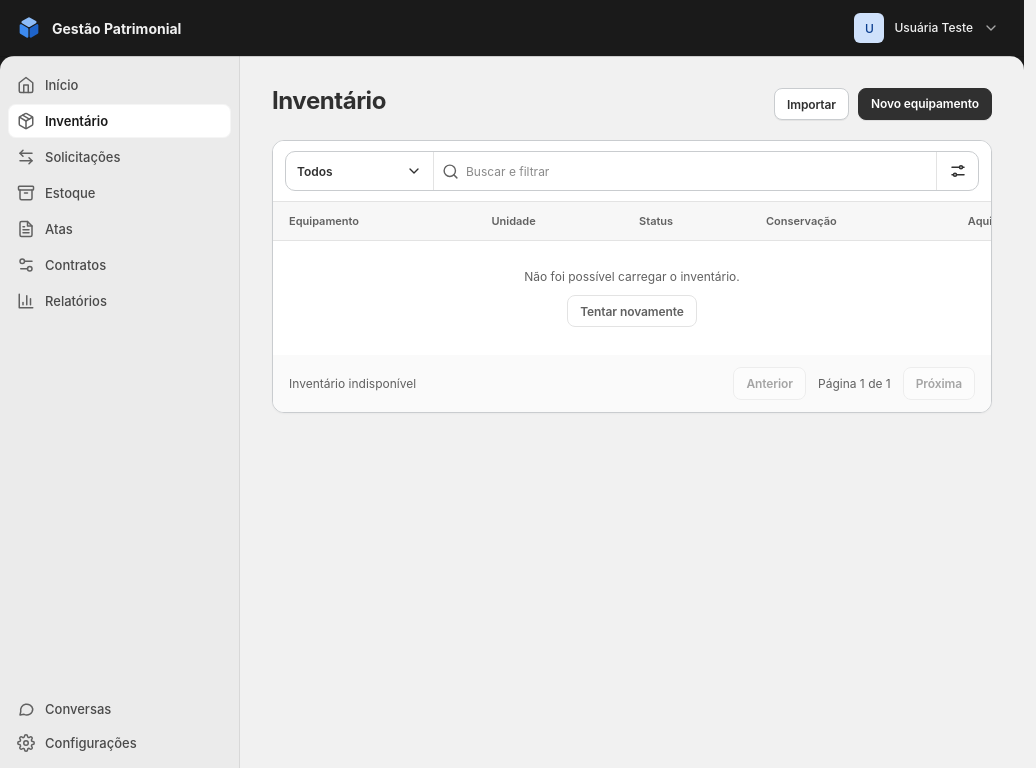
it: distingue falha de consulta de inventário vazio e permite tentar novamente
Check: the text "Não foi possível carregar o inventário." is shown, box [524,268,740,285]
Click the button "Tentar novamente": (632, 311) [567,295,697,327]
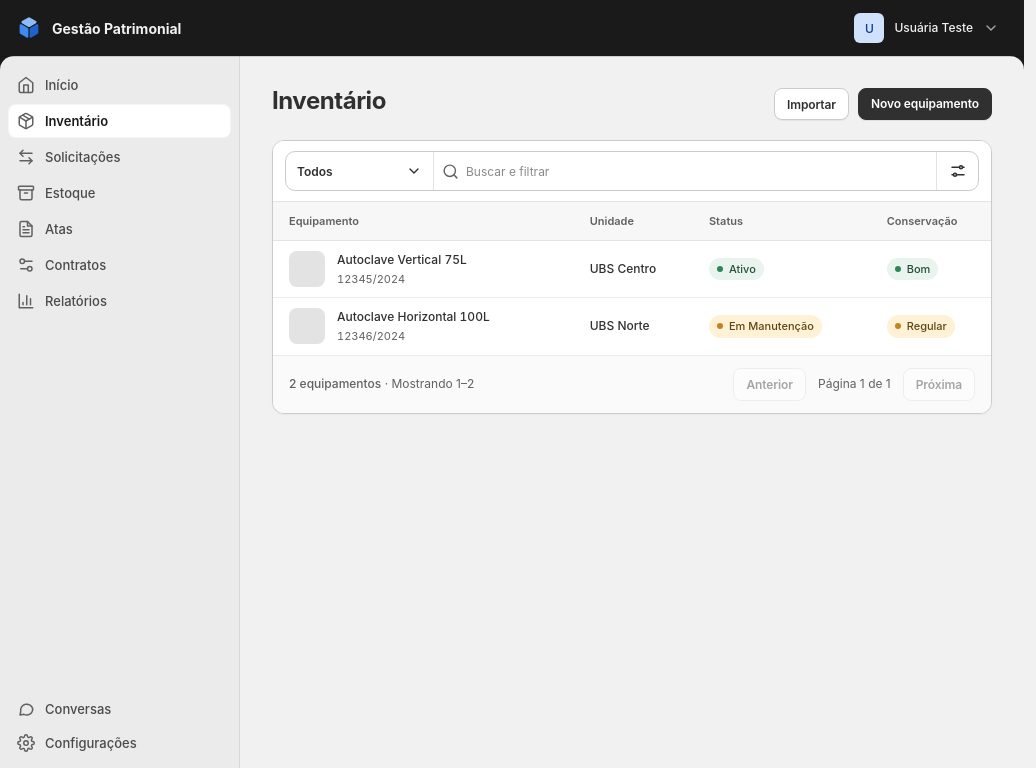
Check: the text "12345/2024" is shown, box [337,272,405,286]
